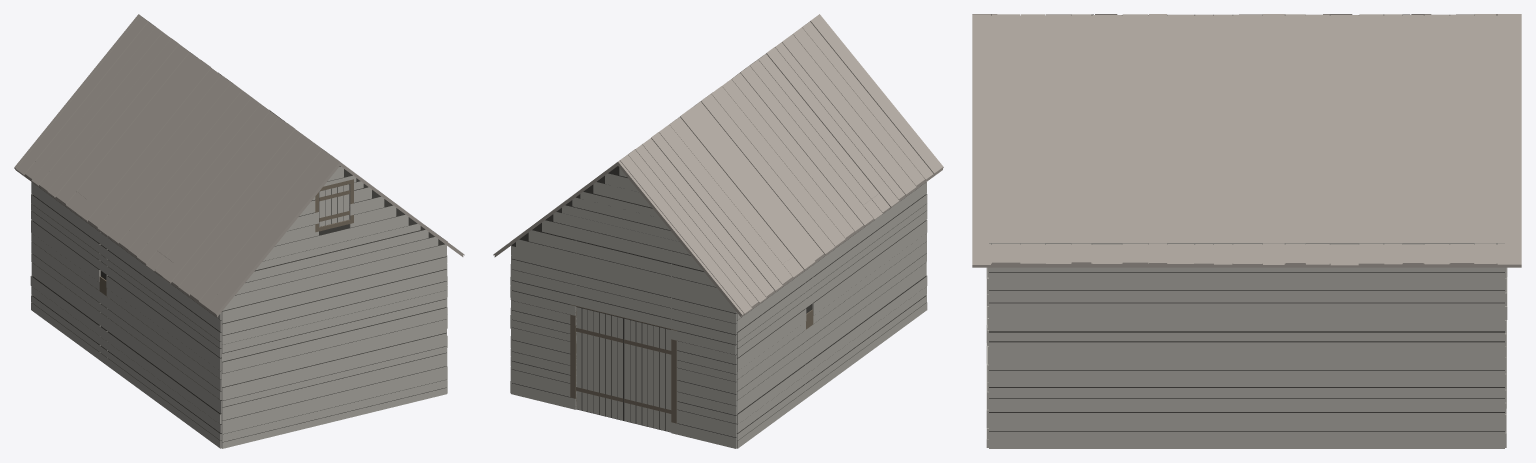
The model's file is recon_1835_blk_south_water_lasalle_a2_15__inferred_1835.glb.
3 views of the same model, side by side, from view 1: azimuth 30°, elevation 25°; view 2: azimuth 150°, elevation 25°; view 3: azimuth 270°, elevation 25° (orthographic). The views are drawn at different scales.
Parts seen in each view (by area): view 1: recon_1835_blk_south_water_lasalle_a2_15__inferred_1835; view 2: recon_1835_blk_south_water_lasalle_a2_15__inferred_1835; view 3: recon_1835_blk_south_water_lasalle_a2_15__inferred_1835.
Part boxes in pixels (x1,y1,x2,y2): recon_1835_blk_south_water_lasalle_a2_15__inferred_1835: (14, 14, 464, 448); recon_1835_blk_south_water_lasalle_a2_15__inferred_1835: (493, 14, 943, 448); recon_1835_blk_south_water_lasalle_a2_15__inferred_1835: (972, 14, 1521, 448).
Bounding box in the file's own units: 7.58 × 7.66 × 10.61.
